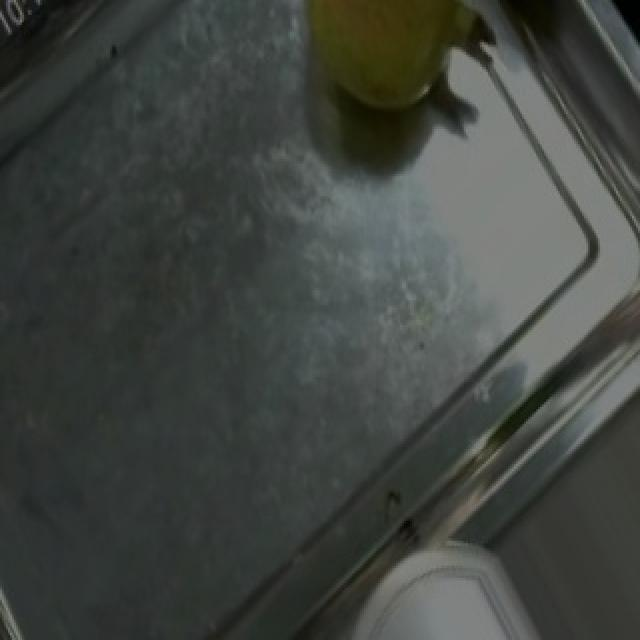fruit: (270, 0, 492, 144)
